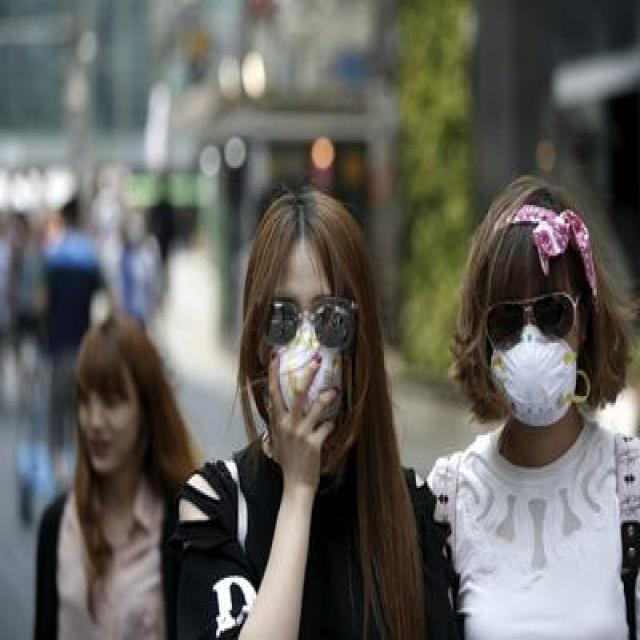with_mask: (488, 280, 579, 429), (262, 284, 345, 425)
without_mask: (80, 383, 139, 475)
